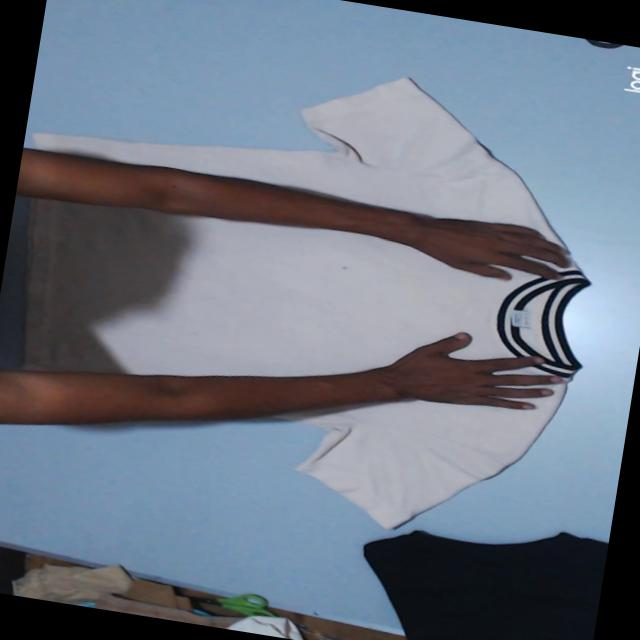new-garment: (27, 200, 589, 381), (35, 79, 561, 243), (295, 382, 565, 526)
